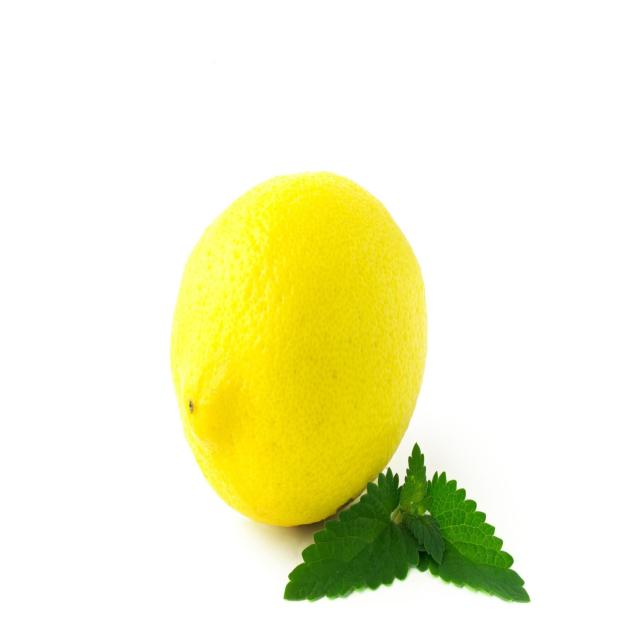lemon: (166, 163, 432, 533)
